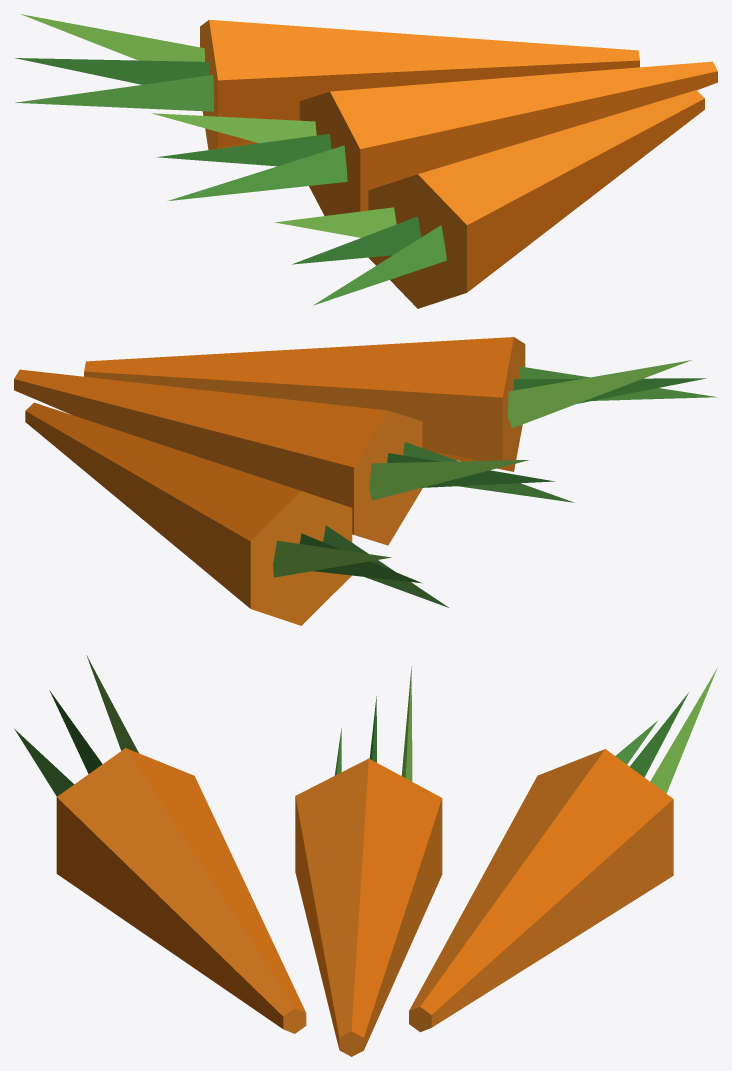
Rendered from carrot-crop.glb.
The picture shows the model from 3 angles, top to bottom: view 1: azimuth 30°, elevation 25°; view 2: azimuth 150°, elevation 25°; view 3: azimuth 270°, elevation 25°; orthographic projection. The views are drawn at different scales.
Visible parts, largest first — view 1: carrot-crop; view 2: carrot-crop; view 3: carrot-crop.
Boxes of the visible parts, x1,y1,x2,y2 form: carrot-crop: (15, 14, 717, 308); carrot-crop: (14, 337, 717, 625); carrot-crop: (14, 655, 717, 1056).
Size of the model in its own units: 0.4208 by 0.0987 by 0.3986.
Materials: 1 (1 with a texture image).
